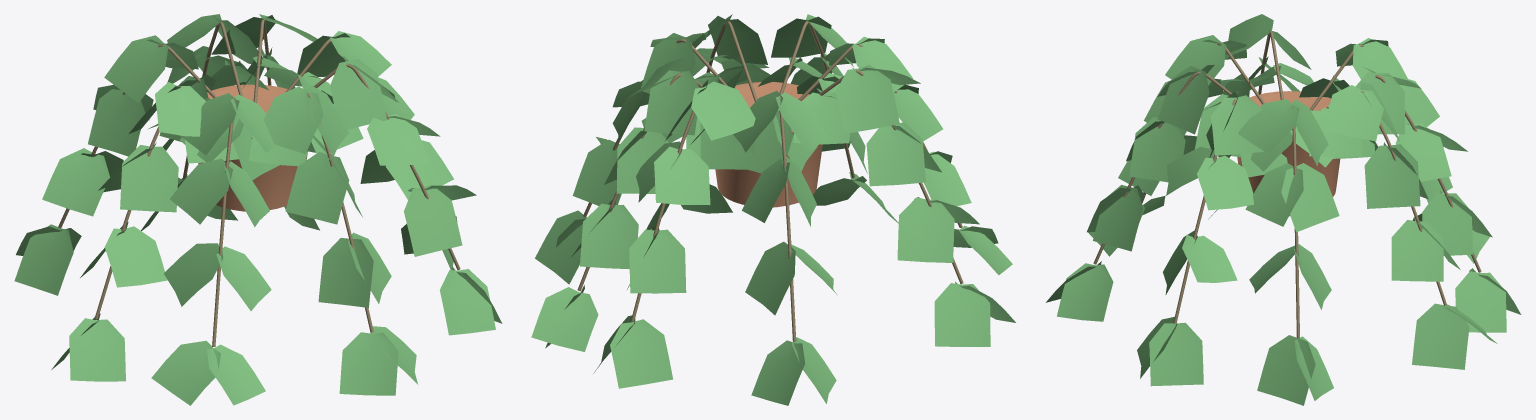
File: ref_vine.fbx
3 renders of one model, left to right at view 1: azimuth 30°, elevation 25°; view 2: azimuth 150°, elevation 25°; view 3: azimuth 270°, elevation 25°, orthographic. The views are drawn at different scales.
Parts seen in each view (by area): view 1: EQ_ref_vine_M_PothosLeaf, EQ_ref_vine_M_Stem, EQ_ref_vine_M_Terracotta; view 2: EQ_ref_vine_M_PothosLeaf, EQ_ref_vine_M_Stem, EQ_ref_vine_M_Terracotta; view 3: EQ_ref_vine_M_PothosLeaf, EQ_ref_vine_M_Stem, EQ_ref_vine_M_Terracotta.
Part boxes in pixels (x1,y1,x2,y2): EQ_ref_vine_M_PothosLeaf: (14,14,502,405); EQ_ref_vine_M_Stem: (58,19,460,346); EQ_ref_vine_M_Terracotta: (198,84,307,211); EQ_ref_vine_M_PothosLeaf: (531,14,1015,405); EQ_ref_vine_M_Stem: (577,21,963,341); EQ_ref_vine_M_Terracotta: (715,82,822,207); EQ_ref_vine_M_PothosLeaf: (1046,14,1521,405); EQ_ref_vine_M_Stem: (1093,30,1481,338); EQ_ref_vine_M_Terracotta: (1237,91,1340,196).
Bounding box in the file's own units: 0.7554 × 0.4352 × 0.7578.
